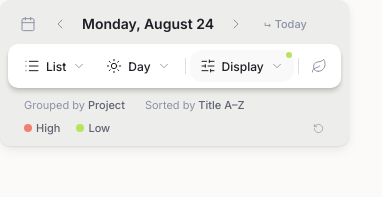
Test: the desktop mount, under the view pill › names Reset in a tooltip on a pointer, and never with a native title
Hover over the button with test id "display-shelf-reset-canvas".
mouse_move(319, 128)  # box [311,119,327,137]
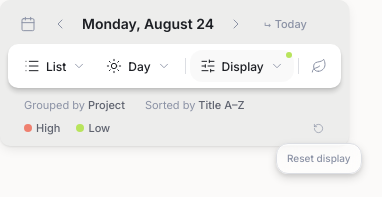
Expected: the tooltip reads "Reset display", [287,152,351,164]
